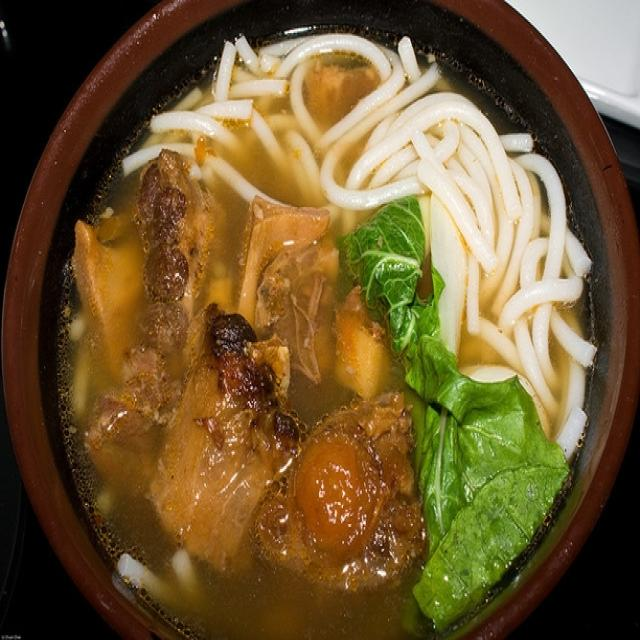汤锅炖物: (5, 17, 634, 631)
